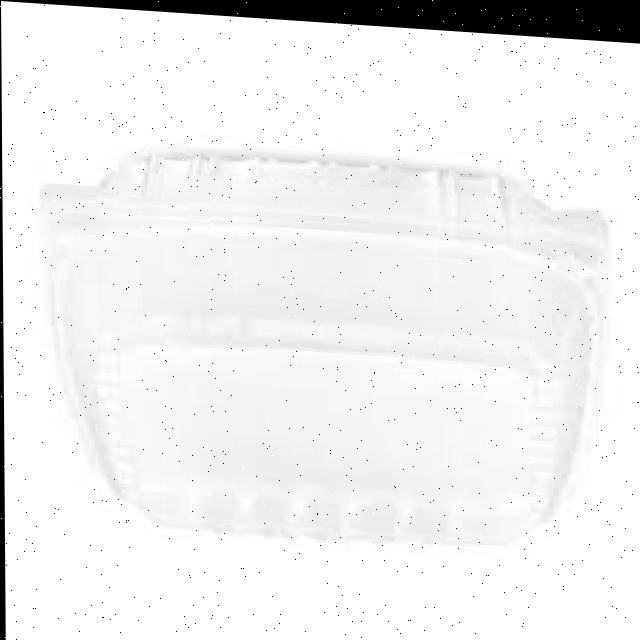disposable: (16, 108, 616, 566)
